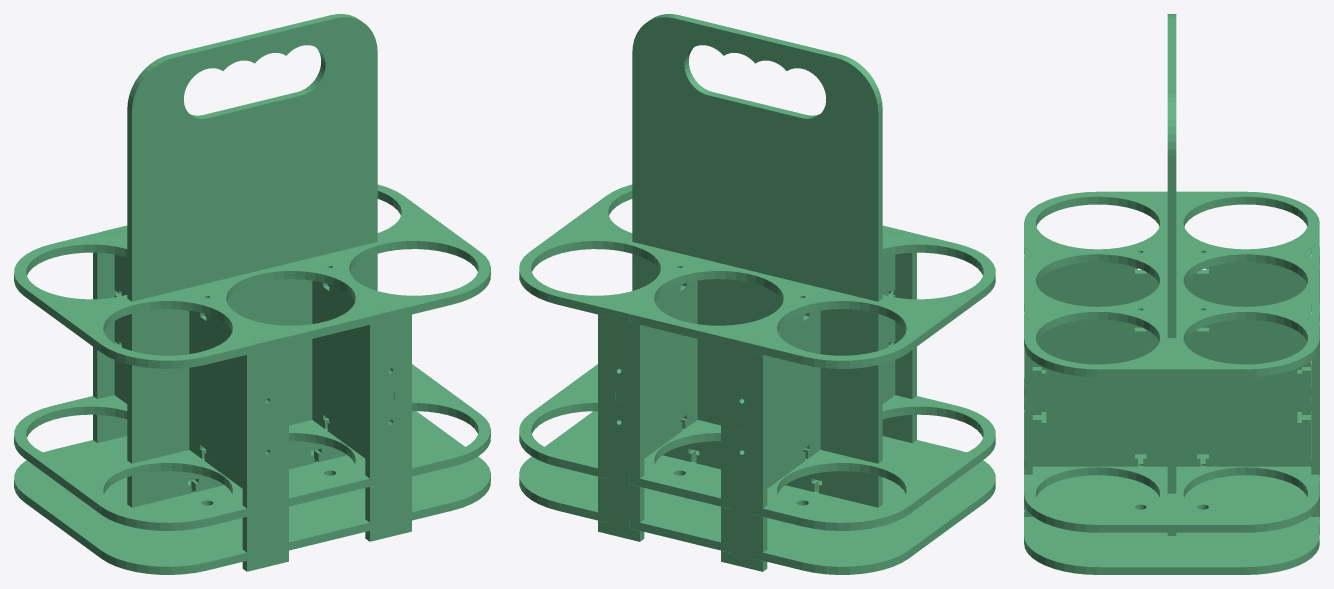
File: BottleSixPack.dae
The picture shows the model from 3 angles, left to right: view 1: azimuth 30°, elevation 25°; view 2: azimuth 150°, elevation 25°; view 3: azimuth 270°, elevation 25°; orthographic projection. The views are drawn at different scales.
Visible parts, largest first — view 1: Bottle 6 Pack Fixed; view 2: Bottle 6 Pack Fixed; view 3: Bottle 6 Pack Fixed.
Boxes of the visible parts, x1=… form: Bottle 6 Pack Fixed: x1=14, y1=14, x2=490, y2=574; Bottle 6 Pack Fixed: x1=519, y1=14, x2=995, y2=574; Bottle 6 Pack Fixed: x1=1024, y1=14, x2=1319, y2=574.
Size of the model in its own units: 0.3095 by 0.2178 by 0.3579.
